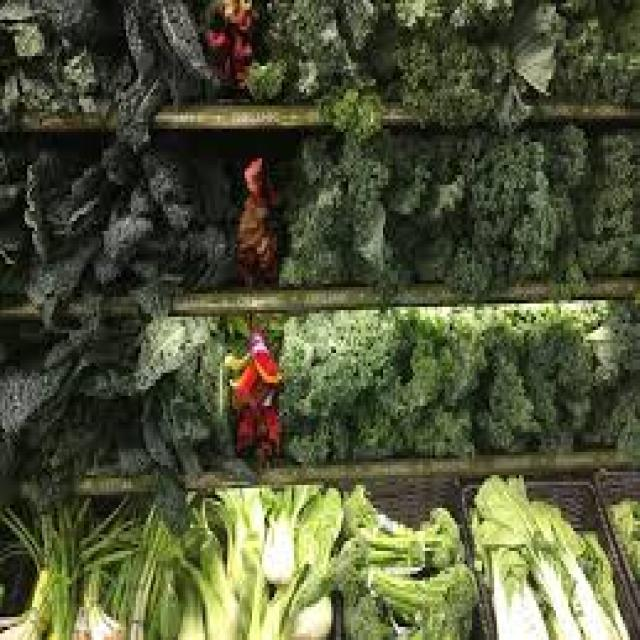biodegradable: (267, 132, 393, 284), (457, 122, 571, 277), (512, 300, 596, 449), (0, 320, 89, 459), (77, 310, 220, 393), (364, 307, 480, 406), (460, 297, 536, 445), (173, 488, 245, 637), (571, 125, 637, 277), (576, 300, 638, 452), (277, 310, 371, 409), (208, 488, 270, 637), (193, 320, 250, 472), (220, 314, 279, 459), (257, 0, 341, 96), (559, 0, 638, 96), (388, 132, 472, 221), (114, 501, 168, 637), (146, 215, 240, 291), (376, 564, 472, 637), (5, 495, 96, 571), (242, 518, 299, 637), (20, 142, 79, 254), (136, 501, 183, 637), (230, 152, 282, 274), (158, 360, 208, 485), (262, 485, 321, 587), (487, 541, 549, 637), (0, 135, 37, 294), (20, 228, 91, 310), (467, 465, 534, 551), (558, 544, 618, 637), (381, 69, 492, 119), (326, 525, 425, 581), (37, 323, 146, 373), (50, 386, 116, 468), (67, 564, 141, 637), (400, 17, 487, 79), (136, 139, 198, 225), (344, 478, 420, 548), (292, 485, 339, 597), (504, 0, 561, 89), (583, 528, 628, 637), (143, 0, 210, 73), (277, 393, 351, 459), (398, 390, 472, 456), (524, 544, 576, 637), (40, 36, 109, 106), (341, 389, 410, 459), (52, 148, 109, 231), (77, 495, 139, 571), (0, 0, 96, 49), (390, 205, 450, 281), (0, 564, 62, 637), (131, 366, 175, 462), (485, 30, 527, 129), (217, 482, 267, 558), (536, 122, 588, 191), (208, 307, 284, 353), (408, 505, 460, 571), (42, 554, 82, 637), (111, 66, 161, 132), (116, 0, 158, 76), (321, 83, 381, 136), (339, 577, 391, 637), (601, 369, 638, 452), (190, 145, 230, 218), (422, 554, 477, 607), (435, 235, 487, 291), (529, 495, 578, 554), (0, 53, 47, 109), (606, 492, 638, 574), (282, 584, 329, 637), (371, 0, 398, 89), (443, 0, 512, 33), (176, 558, 203, 637), (153, 53, 195, 102), (121, 178, 156, 234), (99, 132, 138, 181), (124, 244, 171, 284), (336, 47, 371, 93), (336, 0, 373, 43), (195, 20, 232, 59), (213, 0, 252, 30), (397, 0, 442, 26), (89, 241, 121, 277), (104, 208, 133, 247), (99, 46, 133, 79), (250, 56, 282, 89), (220, 56, 249, 92), (37, 297, 67, 327), (233, 27, 255, 60)
